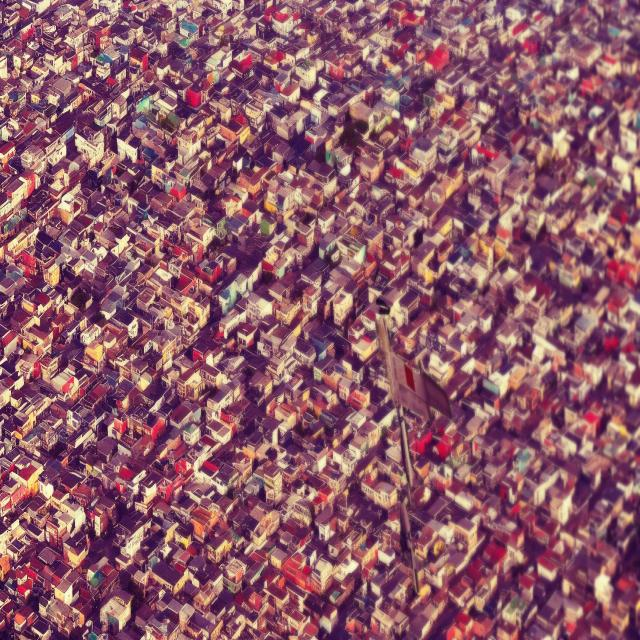airplane: (382, 316, 451, 488), (401, 502, 420, 592)
